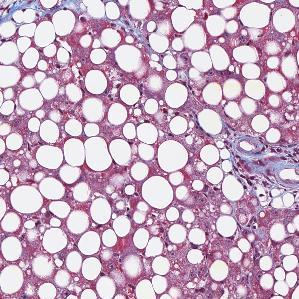fibrosis: (226, 134, 299, 191)
